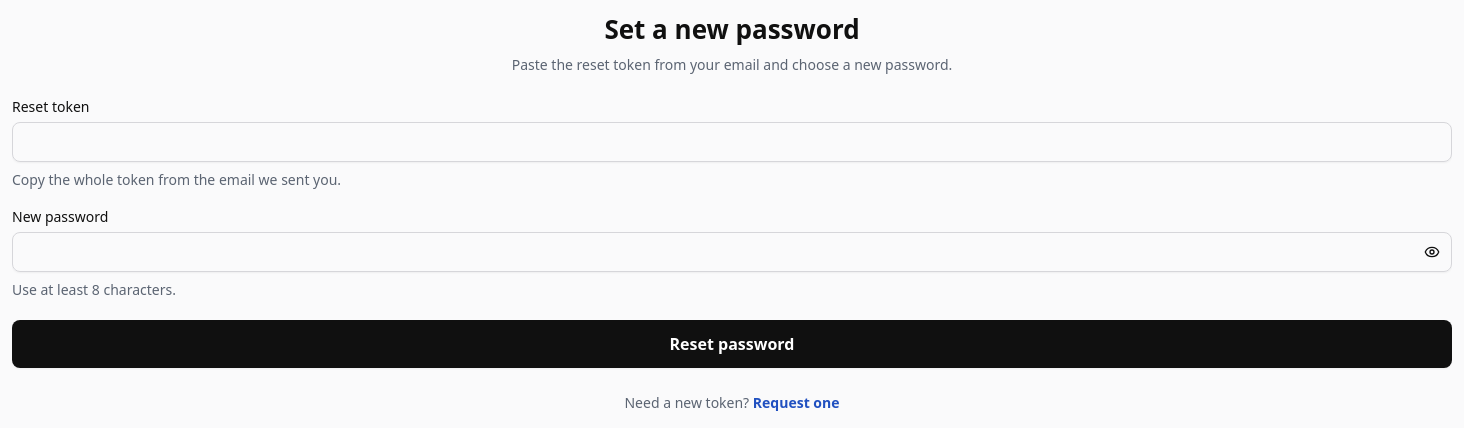
Scenario: ResetPasswordForm › leaves the token nowhere after a reset
In the field labelled "Reset token": (732, 142) [12,122,1452,162], type "q7Xv2mZk9LwR4tYb1NcH8sJd5GfP3aUe6oIi0TrKyQw"
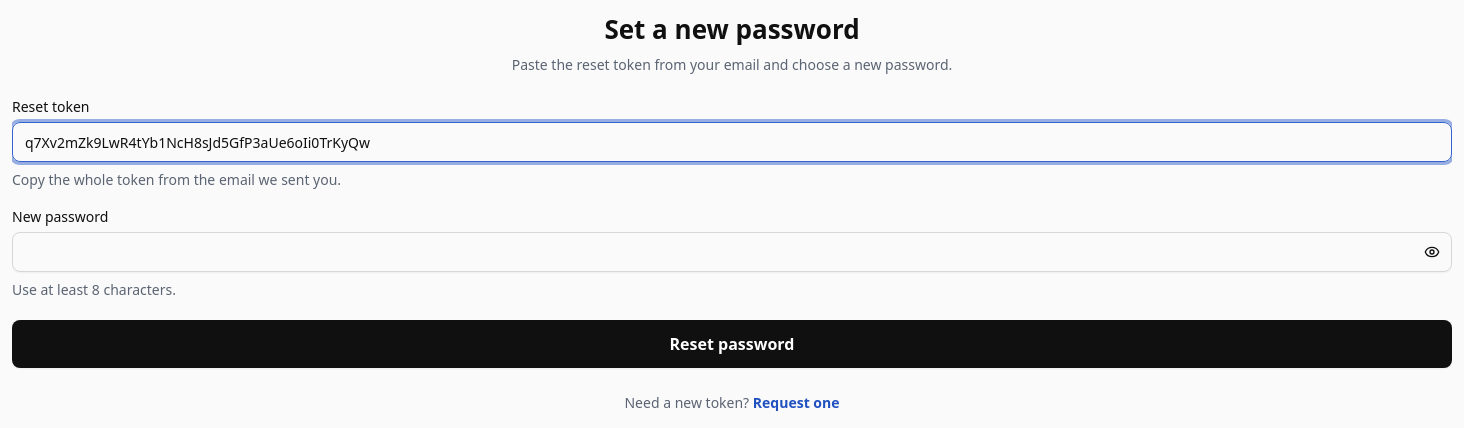
In the password field labelled "New password": (732, 252) [12,232,1452,272], type "brand-new-pass"
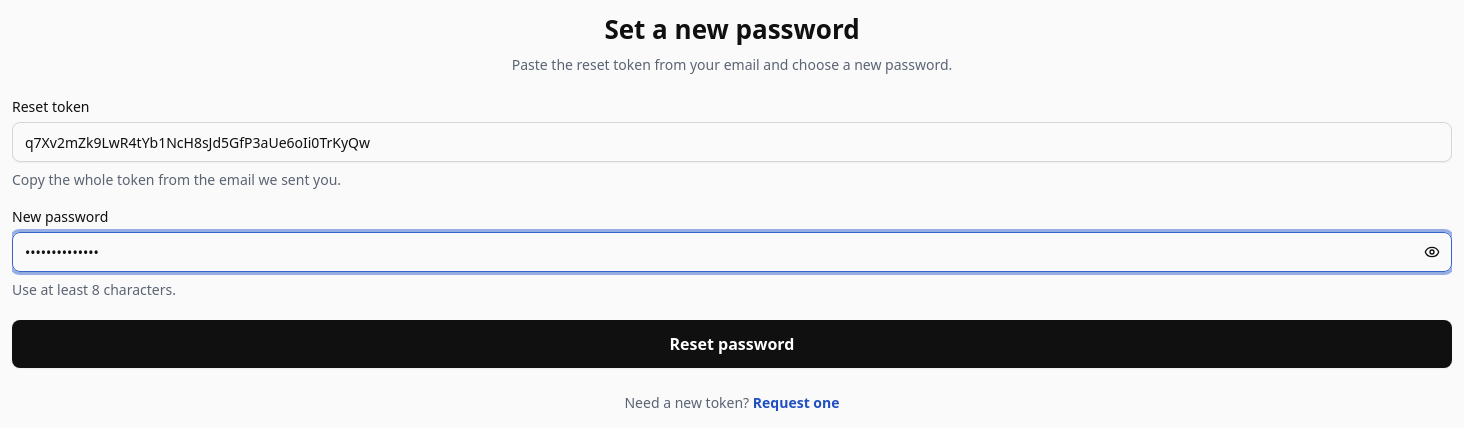
Click the button "Reset password": click(732, 344) [12,320,1452,368]
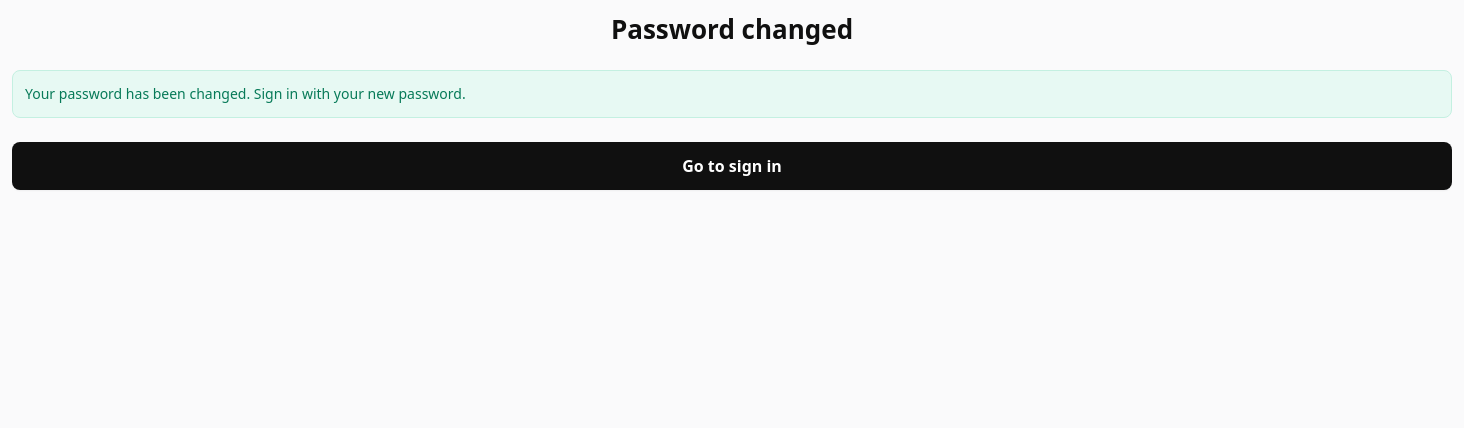
expect the message "Your password has been changed. Sign in with your new password." is shown: met, box [12,70,1452,118]
